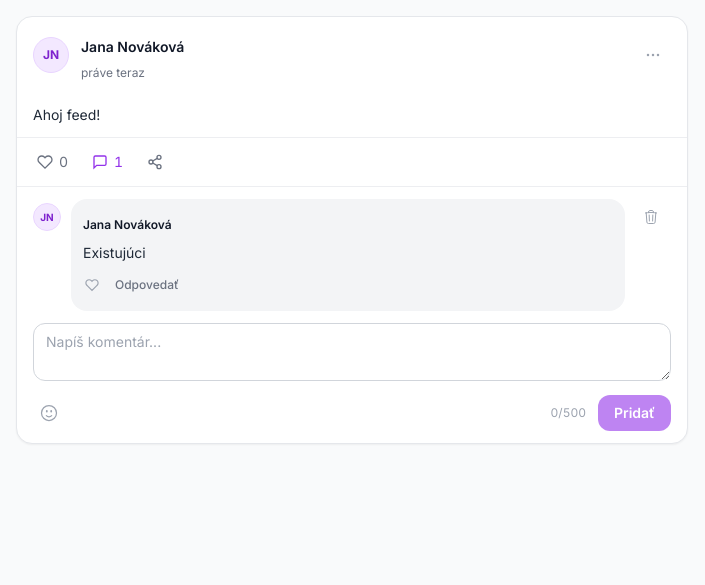
Test: FeedPostDetailModule › shows a newly added comment immediately, without a reload
Expected: the text "Existujúci" is shown, [83, 244, 146, 261]
Type "Môj nový komentár" into the text box.
click(352, 352); type("Môj nový komentár")  # box [33, 323, 671, 381]
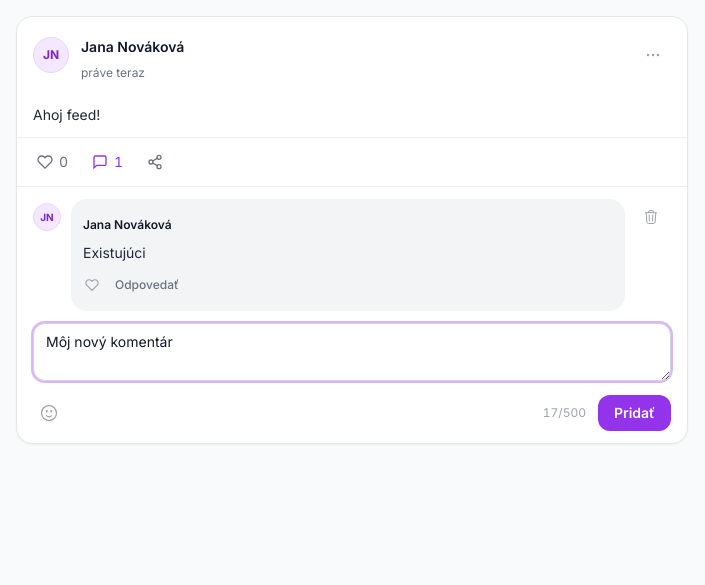
Click the button "Pridať".
click(634, 413)  # box [598, 395, 671, 431]
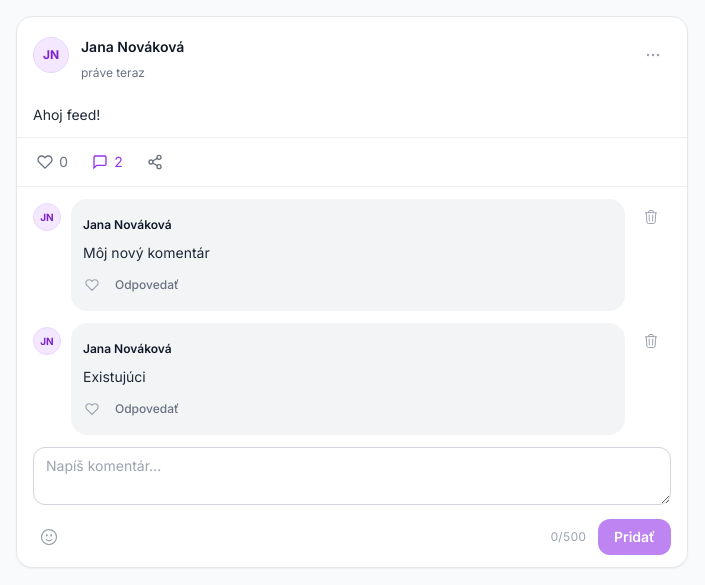
Expected: the text "Existujúci" is shown, [83, 368, 146, 385]
Expected: the text "Môj nový komentár" is shown, [83, 244, 210, 261]
